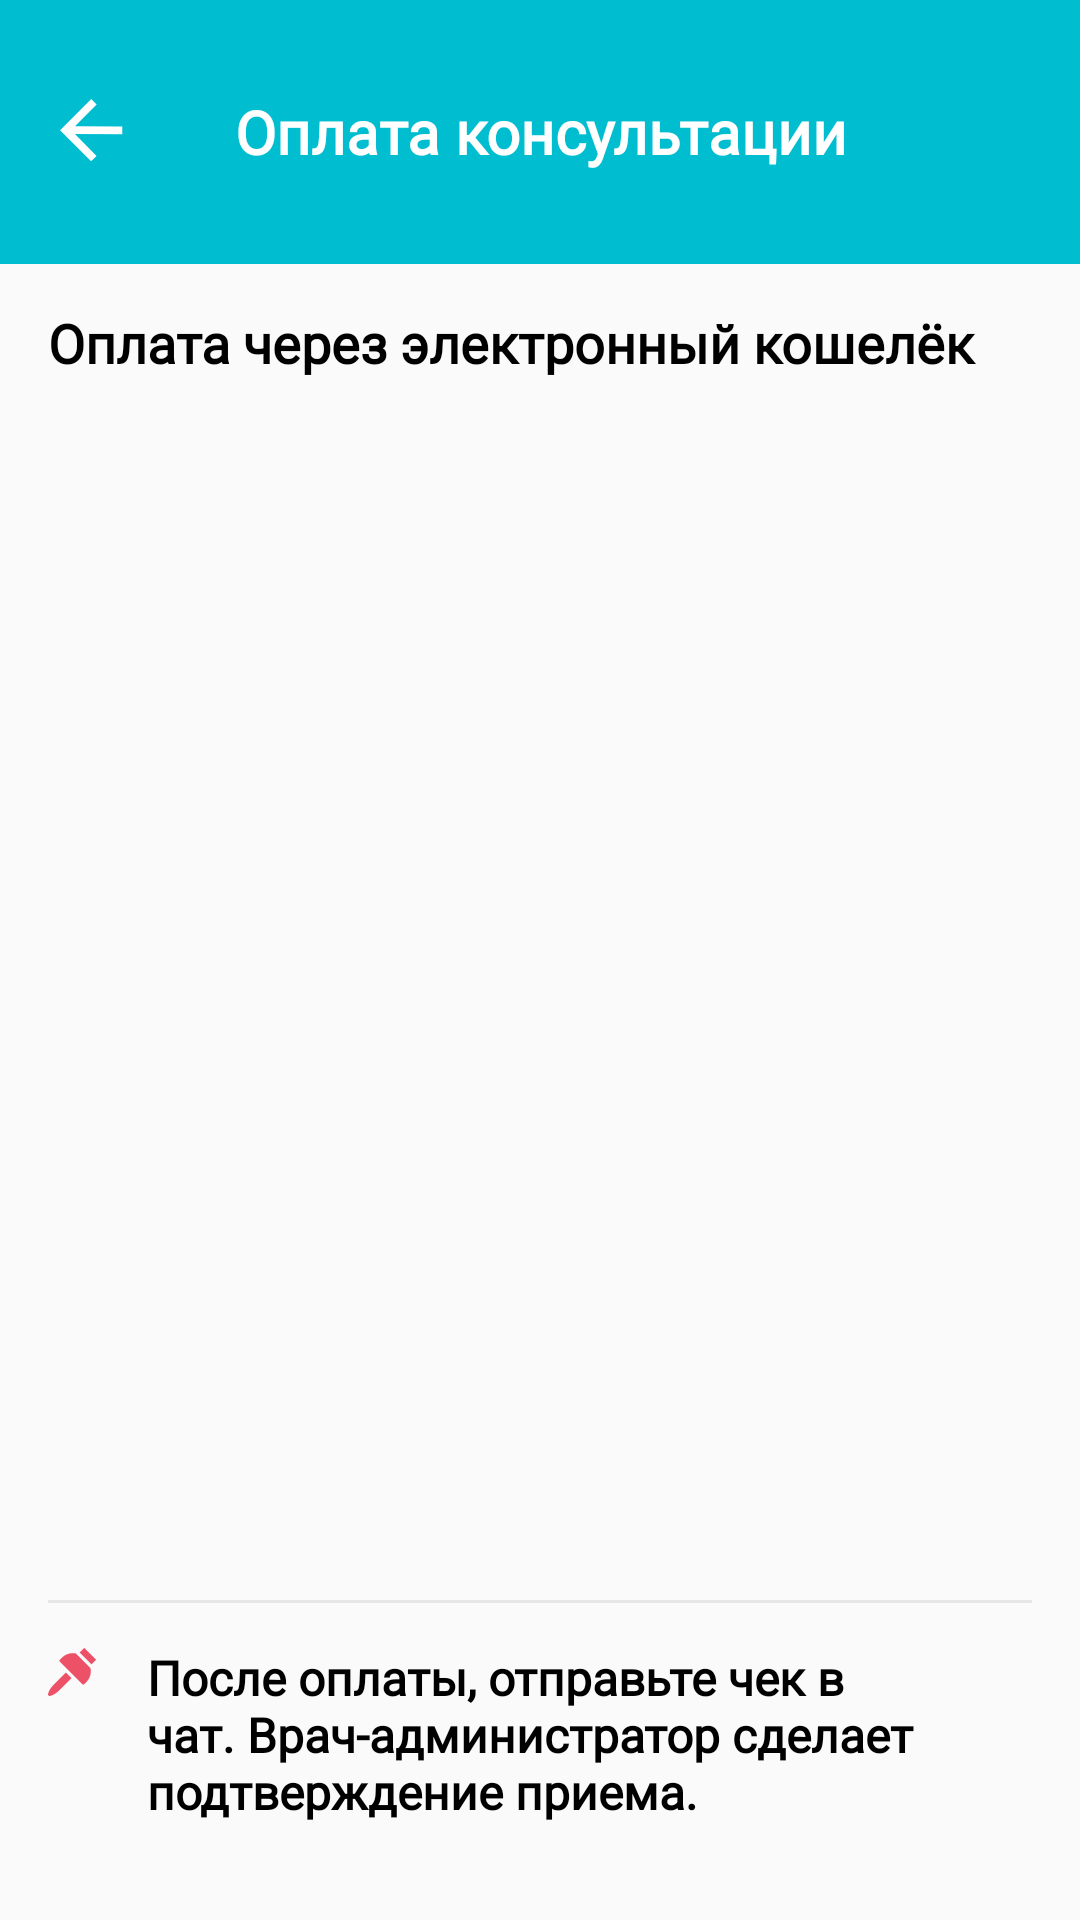

Icons on this 1080 x 1920 Android screen, each with the point to tap as (x=x, y=y):
arrow back: (x=91, y=130)
pinned: (x=72, y=1672)
